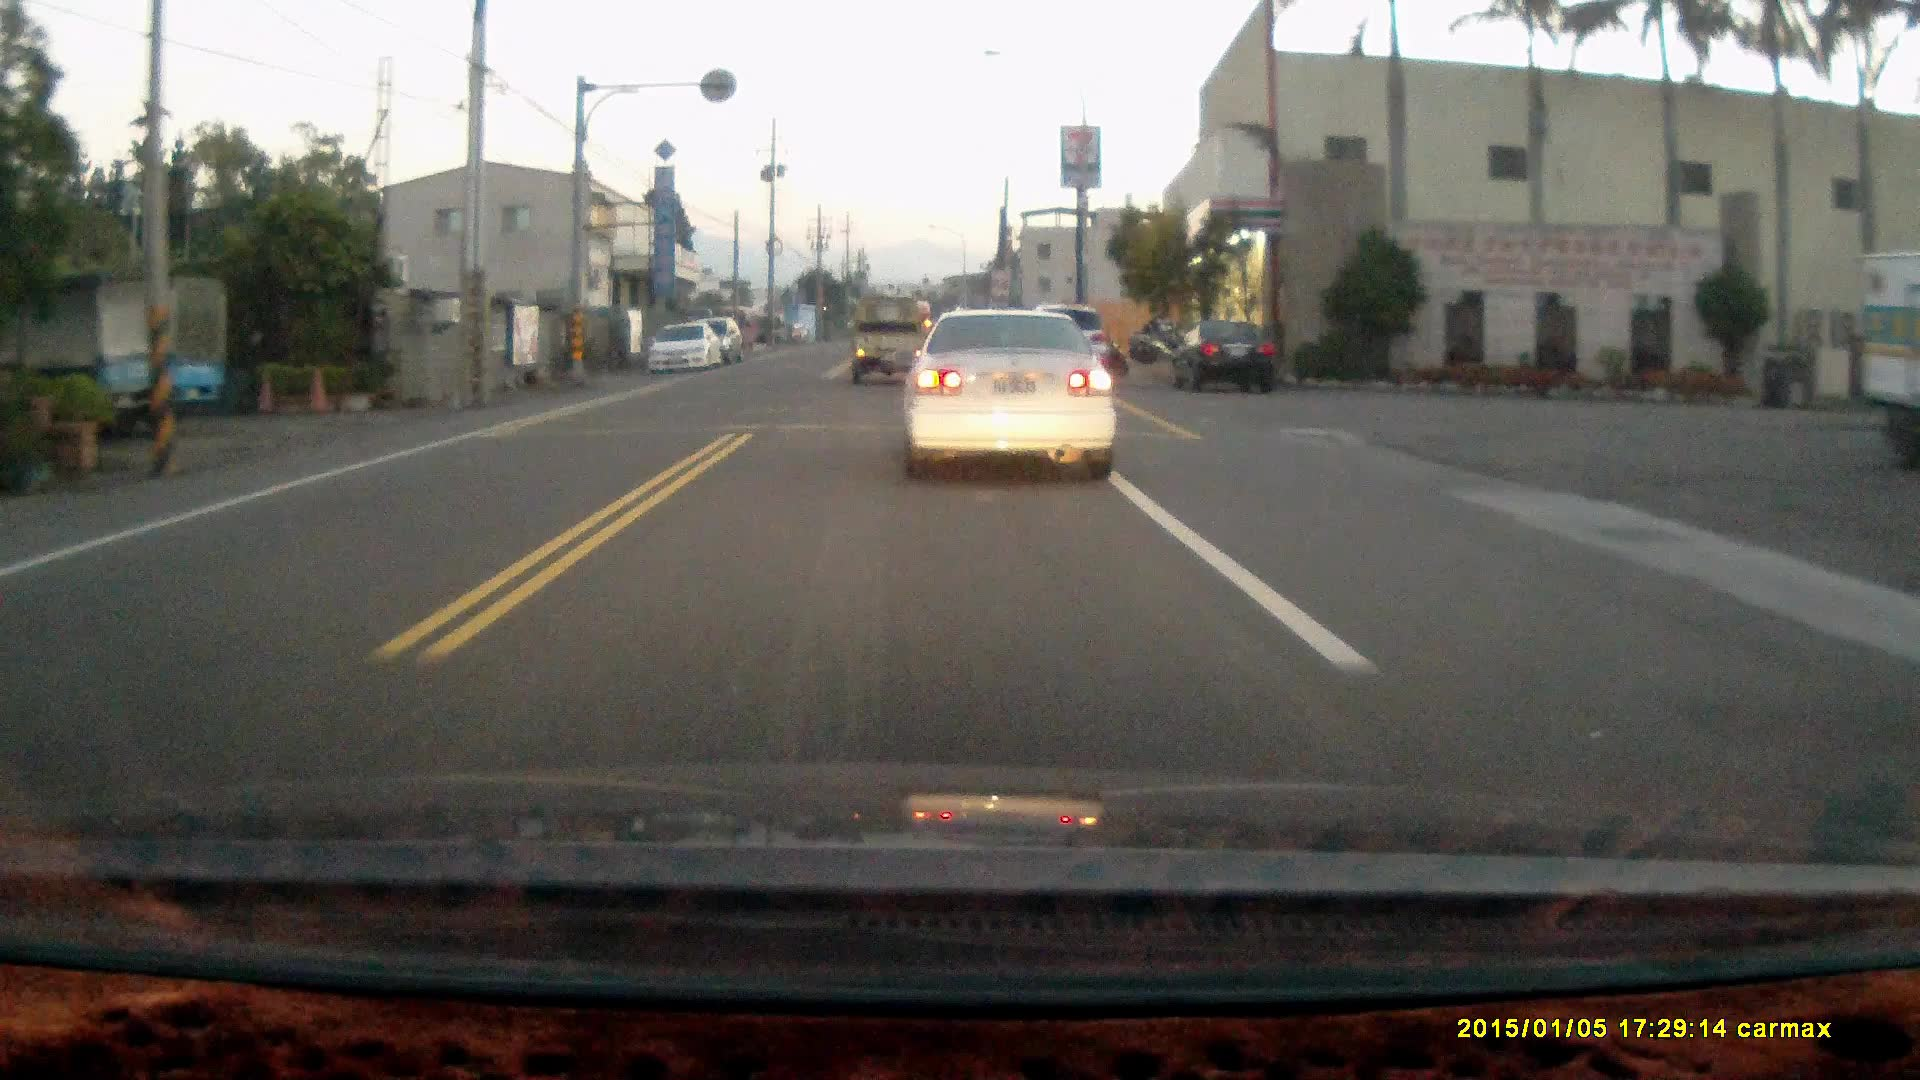vehicle: (907, 305, 1125, 488), (1167, 313, 1278, 390), (848, 295, 931, 382), (644, 319, 727, 373)
